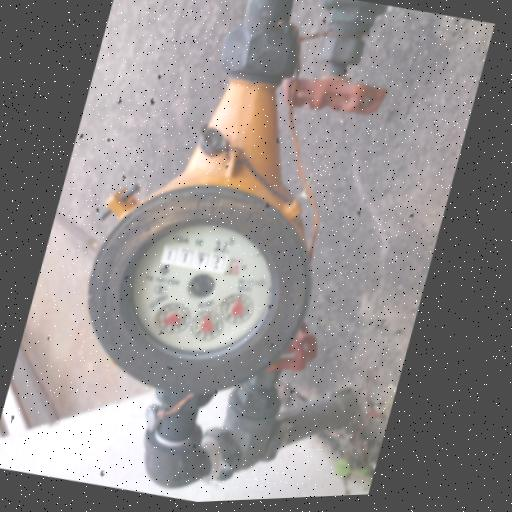1: (162, 246, 178, 263), (178, 249, 194, 265)
3: (210, 254, 226, 271)
4: (227, 258, 241, 275)
9: (194, 252, 210, 268)
border_water_meter_number: (158, 240, 244, 280)
